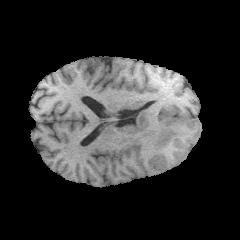glioma: (123, 99, 191, 167)
